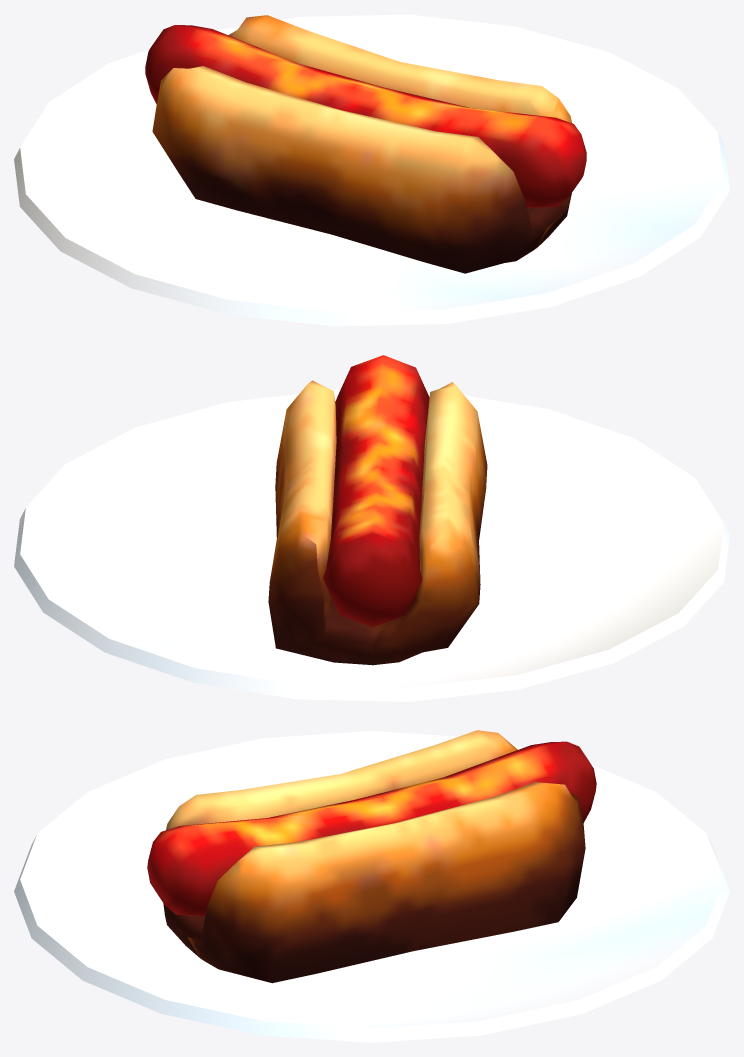
Rendered from 65b5e15f-74be-4857-902d-7d69ac07efd5.glb.
3 renders of one model, top to bottom at view 1: azimuth 30°, elevation 25°; view 2: azimuth 150°, elevation 25°; view 3: azimuth 270°, elevation 25°, orthographic.
Parts seen in each view (by area): view 1: BarFoodAndSnacksHotDog; view 2: BarFoodAndSnacksHotDog; view 3: BarFoodAndSnacksHotDog.
Part boxes in pixels (bbox=[...]): BarFoodAndSnacksHotDog: bbox=[14, 14, 729, 326]; BarFoodAndSnacksHotDog: bbox=[14, 355, 729, 701]; BarFoodAndSnacksHotDog: bbox=[14, 730, 729, 1042].
Size of what is drawn, in the model's own units: 0.4594 by 0.1044 by 0.4594.
1 material, 1 textured.
